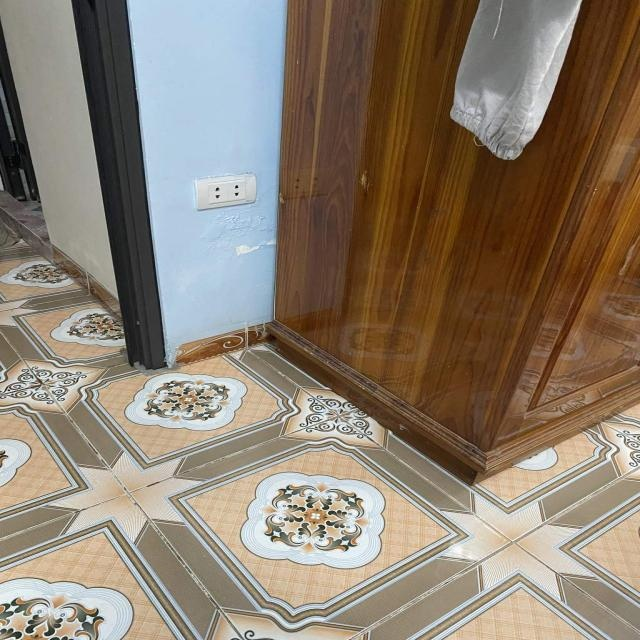outlet: (195, 173, 257, 210)
